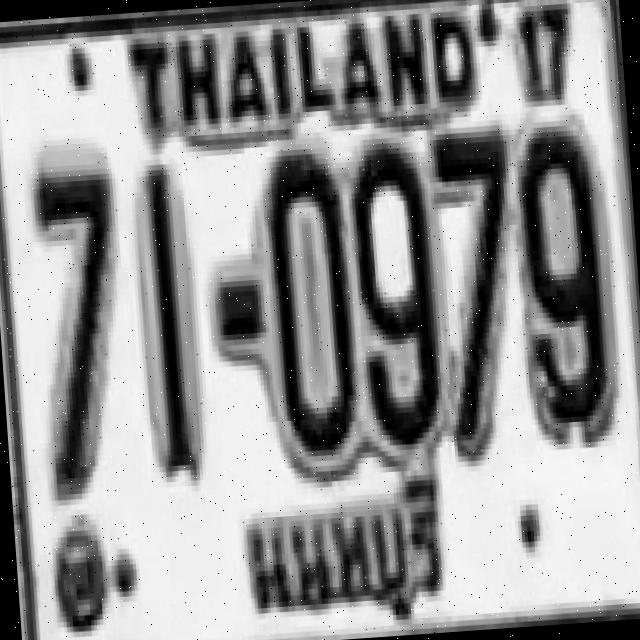0: (260, 144, 356, 456)
1: (127, 163, 198, 478), (132, 163, 199, 478), (137, 163, 200, 477)
7: (28, 152, 130, 490), (429, 124, 525, 457), (430, 124, 516, 346)
9: (508, 118, 615, 440), (346, 133, 440, 444)
Nonthaburi: (229, 466, 457, 632)
